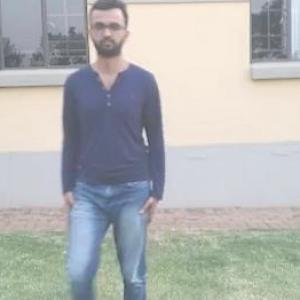follow: (55, 0, 161, 299)
